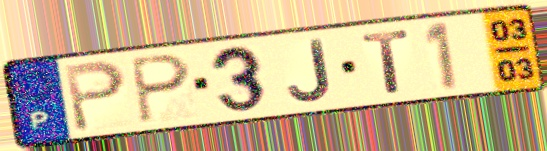1: (422, 19, 460, 92)
3: (209, 43, 274, 117)
J: (285, 36, 336, 105)
P: (61, 57, 129, 135), (127, 52, 195, 127)
T: (358, 27, 414, 96)
